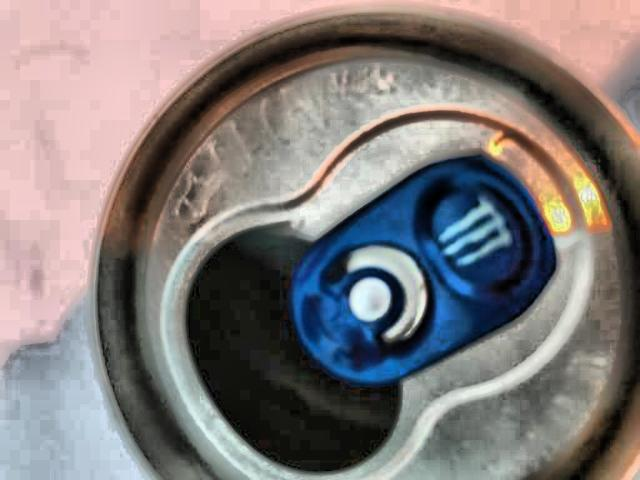Bottles: (48, 0, 640, 480)
